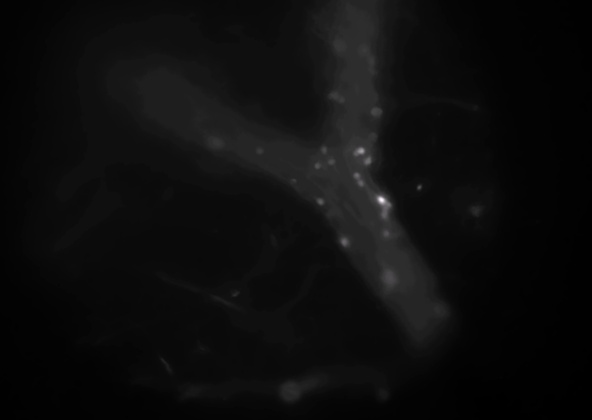cell: (374, 193, 388, 207), (353, 143, 367, 157), (370, 104, 384, 118), (349, 146, 363, 160), (361, 154, 375, 168), (315, 143, 329, 157), (310, 158, 324, 172), (324, 154, 338, 168), (327, 88, 341, 102), (350, 169, 364, 183), (333, 92, 347, 106), (353, 176, 367, 190), (336, 235, 350, 249), (382, 272, 396, 286), (379, 228, 393, 242), (382, 198, 396, 212), (376, 207, 390, 221), (378, 206, 392, 220), (315, 194, 329, 208), (287, 174, 301, 188), (253, 144, 267, 158), (207, 134, 221, 148), (434, 301, 448, 315), (358, 43, 372, 57), (366, 54, 380, 68), (333, 38, 347, 52), (366, 130, 380, 144)
